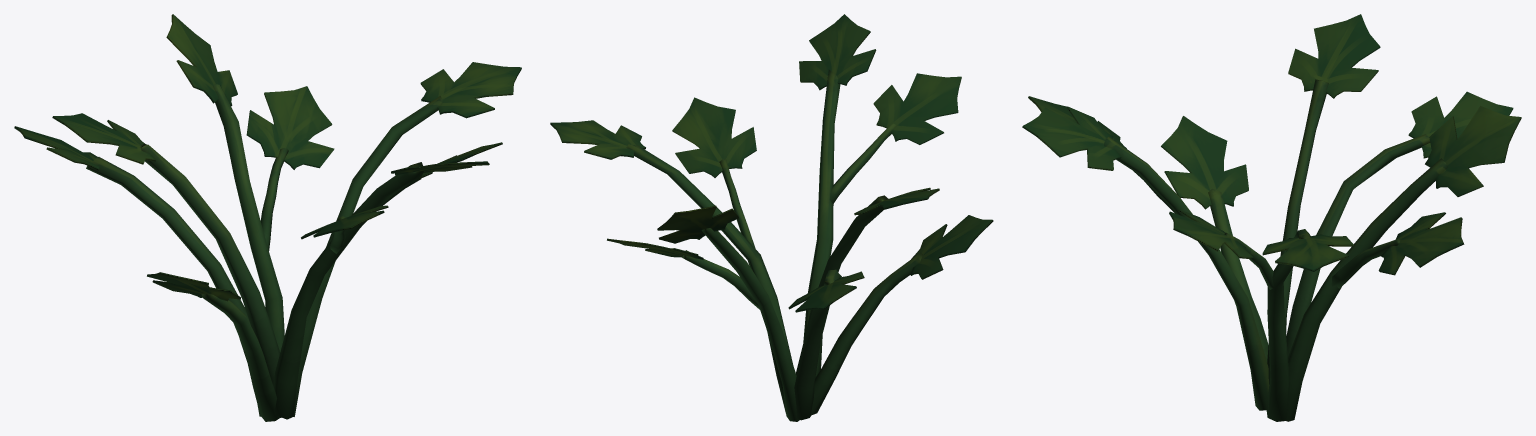
Rendered from salsinha inteira.fbx.
3 renders of one model, left to right at view 1: azimuth 30°, elevation 25°; view 2: azimuth 150°, elevation 25°; view 3: azimuth 270°, elevation 25°, orthographic. The views are drawn at different scales.
Visible parts, largest first — view 1: salsinha2:Group54700, Group38519, salsinha5:Group54700, salsinha7:Group54700, Group38521, salsinha6:Group54700, Salsinha, Group38518, Group54700, Group38524, Group38526, Group38525 (+3 smaller); view 2: Group38520, Group38523, salsinha2:Group54700, salsinha1:Group38518, salsinha7:Group54700, Salsinha, Group54700, Group38526, Group38521, salsinha6:Group54700, Group38518, salsinha5:Group54700 (+6 smaller); view 3: Group38518, salsinha7:Group54700, Group38526, Group38524, salsinha2:Group54700, salsinha1:Group38518, salsinha6:Group54700, Salsinha, Group38519, salsinha5:Group54700, Group38525, Group38521 (+5 smaller).
Part boxes in pixels (x1=…): salsinha2:Group54700: x1=273, y1=162, x2=423, y2=419; Group38519: x1=246, y1=86, x2=334, y2=169; salsinha5:Group54700: x1=140, y1=144, x2=281, y2=418; salsinha7:Group54700: x1=213, y1=84, x2=284, y2=352; Group38521: x1=420, y1=62, x2=521, y2=118; salsinha6:Group54700: x1=86, y1=157, x2=260, y2=416; Salsinha: x1=293, y1=96, x2=442, y2=416; Group38518: x1=166, y1=14, x2=237, y2=106; Group54700: x1=201, y1=287, x2=278, y2=421; Group38524: x1=52, y1=113, x2=155, y2=164; Group38526: x1=147, y1=272, x2=241, y2=301; Group38525: x1=14, y1=126, x2=99, y2=170; Group38520: x1=672, y1=97, x2=756, y2=177; Group38523: x1=873, y1=73, x2=961, y2=144; salsinha2:Group54700: x1=803, y1=69, x2=840, y2=377; salsinha1:Group38518: x1=799, y1=14, x2=876, y2=90; salsinha7:Group54700: x1=701, y1=228, x2=799, y2=421; Salsinha: x1=626, y1=144, x2=792, y2=412; Group54700: x1=810, y1=252, x2=922, y2=415; Group38526: x1=910, y1=215, x2=993, y2=279; Group38521: x1=550, y1=120, x2=645, y2=159; salsinha6:Group54700: x1=794, y1=269, x2=841, y2=420; Group38518: x1=657, y1=205, x2=738, y2=243; salsinha5:Group54700: x1=796, y1=195, x2=888, y2=375; Group38518: x1=1425, y1=106, x2=1521, y2=196; salsinha7:Group54700: x1=1286, y1=158, x2=1447, y2=421; Group38526: x1=1161, y1=116, x2=1248, y2=209; Group38524: x1=1288, y1=14, x2=1380, y2=98; salsinha2:Group54700: x1=1104, y1=137, x2=1269, y2=410; salsinha1:Group38518: x1=1022, y1=106, x2=1121, y2=170; salsinha6:Group54700: x1=1286, y1=134, x2=1430, y2=356; Salsinha: x1=1266, y1=229, x2=1310, y2=421; Group38519: x1=1378, y1=212, x2=1464, y2=275; salsinha5:Group54700: x1=1267, y1=79, x2=1328, y2=384; Group38525: x1=1408, y1=91, x2=1513, y2=158; Group38521: x1=1262, y1=234, x2=1353, y2=271.
Size of the model in its own units: 55.82 by 40.12 by 54.88.
5 materials, 5 textured.
